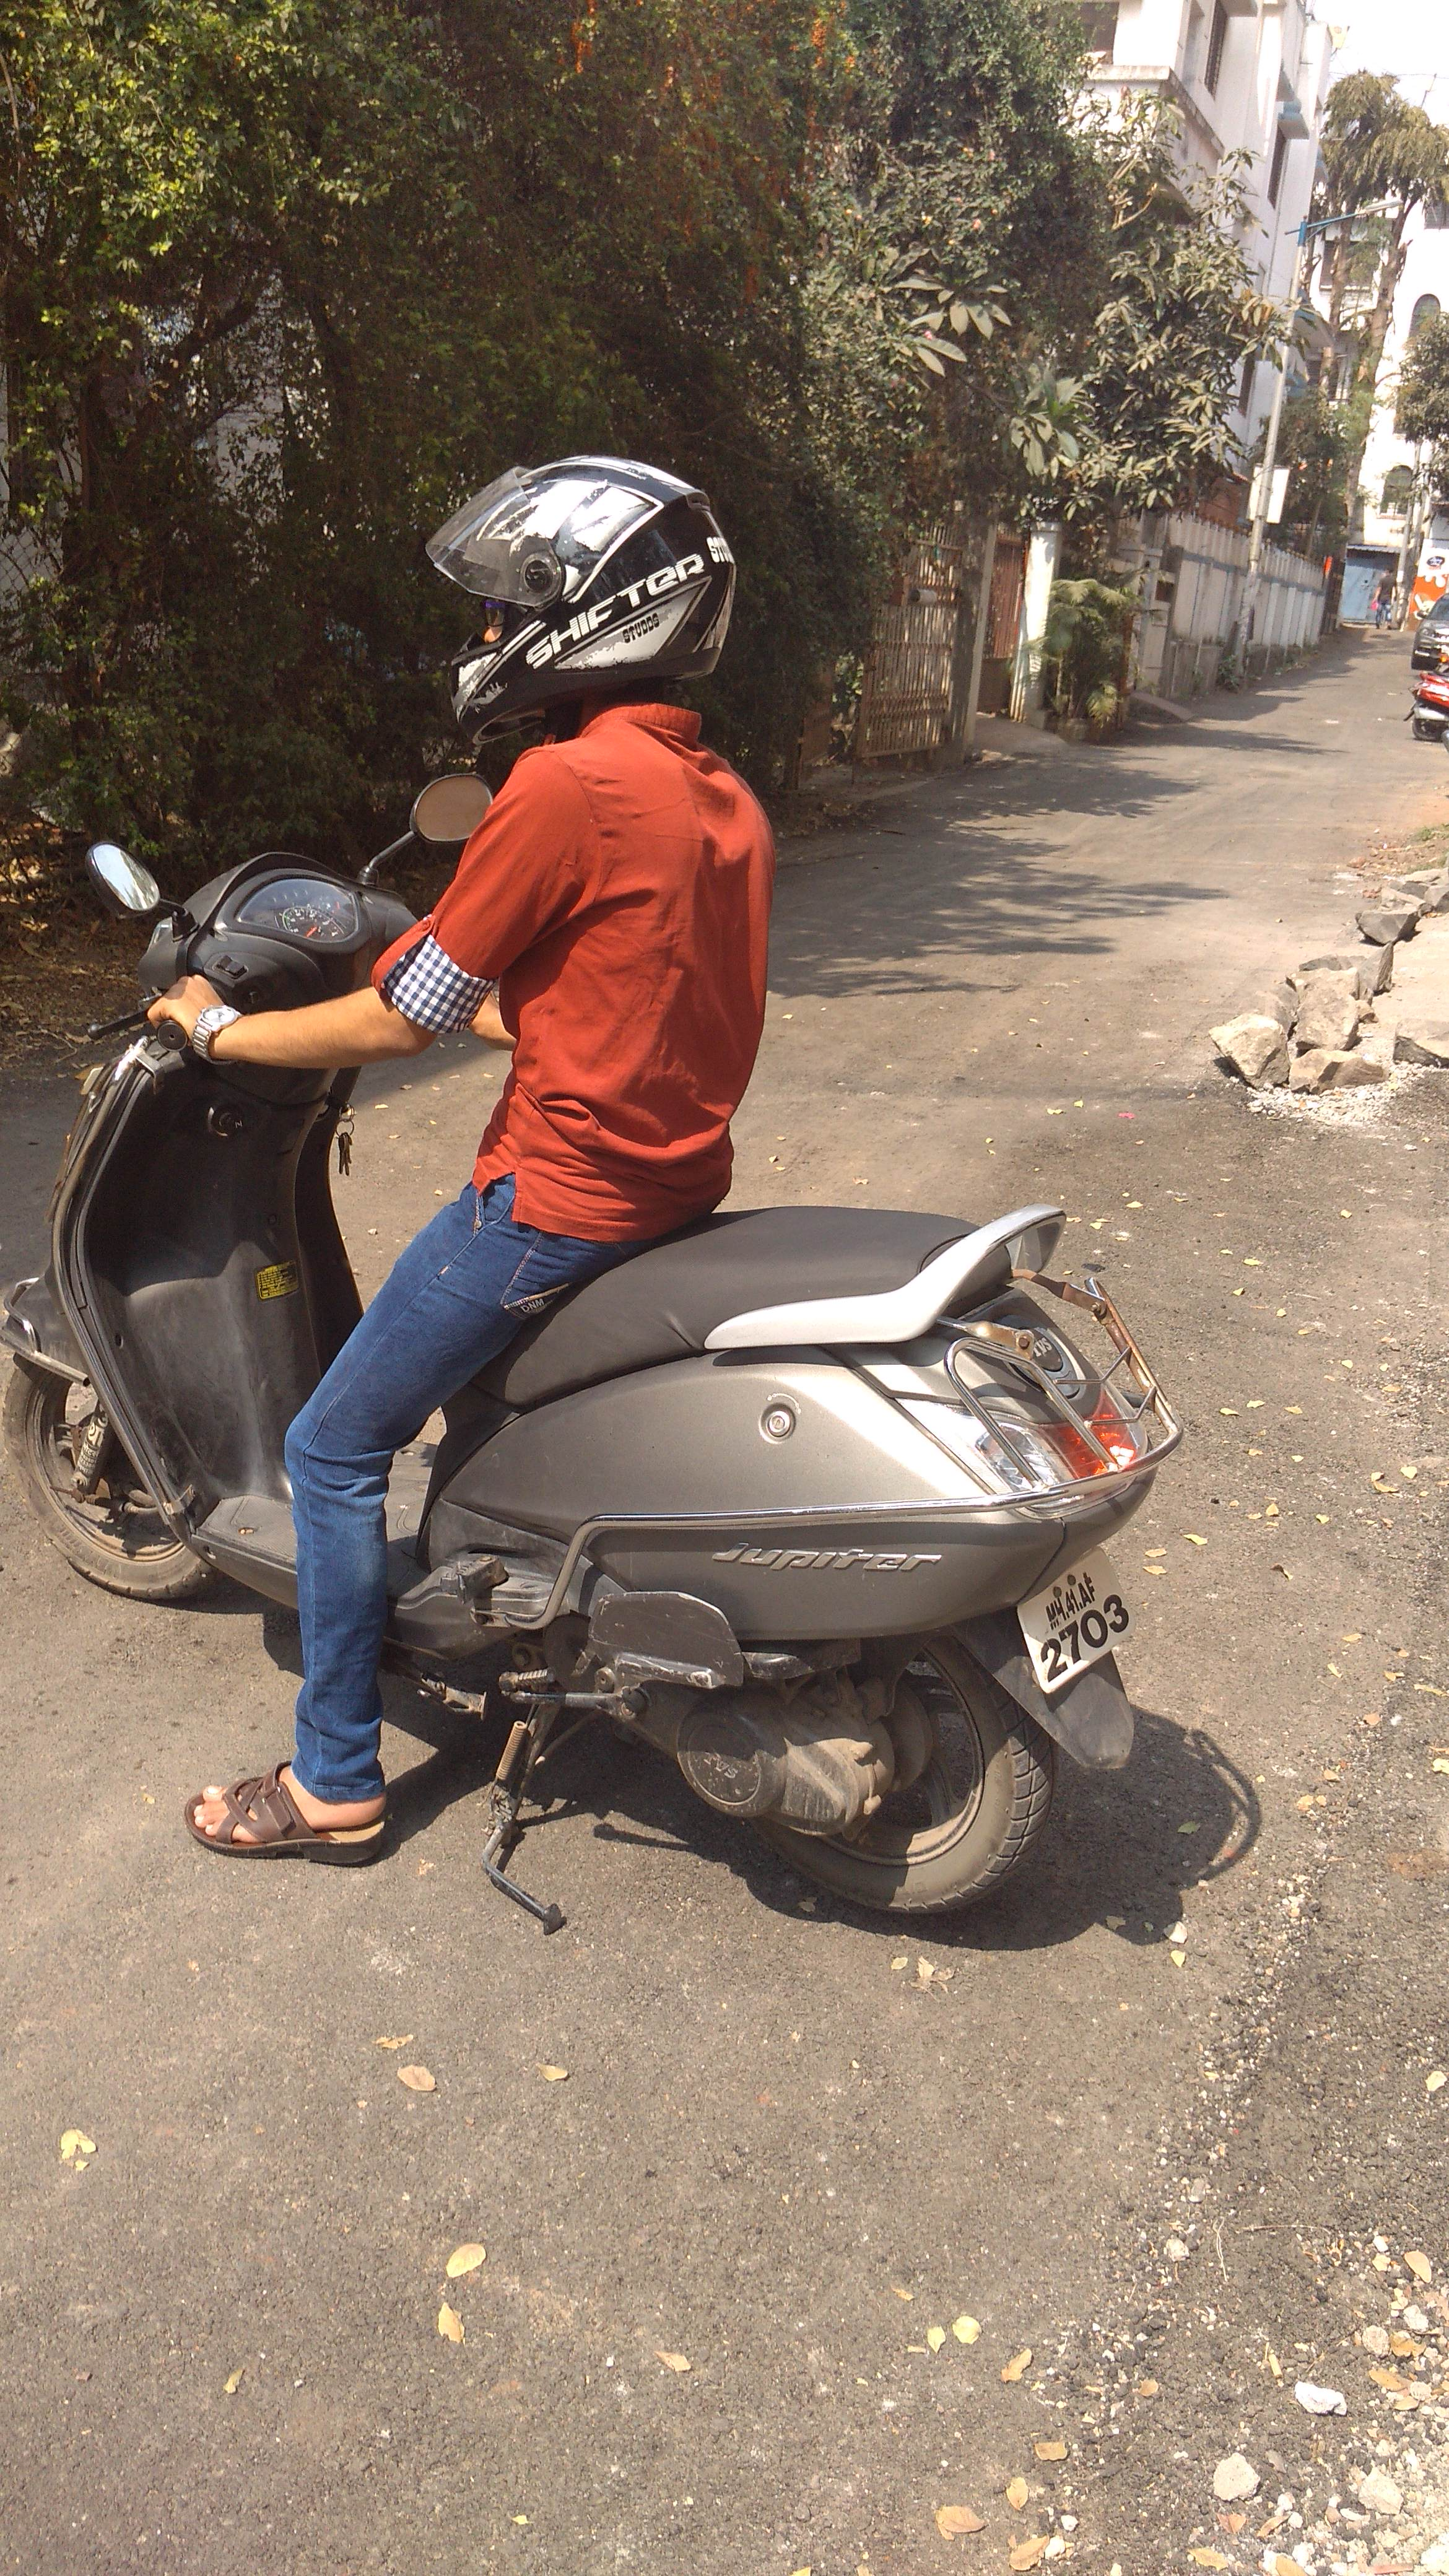helmet: (32, 446, 1207, 1960)
